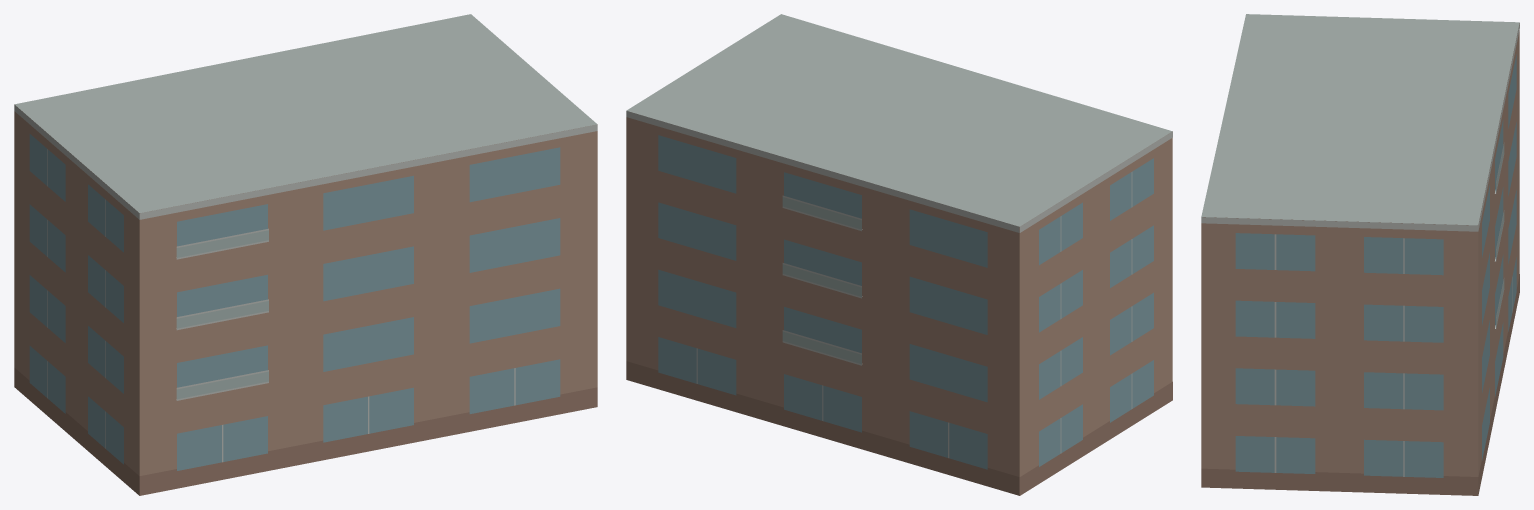
The model's file is survey-upis-32872925.glb.
3 renders of one model, left to right at view 1: azimuth 30°, elevation 25°; view 2: azimuth 150°, elevation 25°; view 3: azimuth 270°, elevation 25°, orthographic. The views are drawn at different scales.
Visible parts, largest first — view 1: survey-upis-32872925.tmp; view 2: survey-upis-32872925.tmp; view 3: survey-upis-32872925.tmp.
Boxes of the visible parts, x1=… form: survey-upis-32872925.tmp: x1=14, y1=14, x2=597, y2=495; survey-upis-32872925.tmp: x1=626, y1=14, x2=1172, y2=495; survey-upis-32872925.tmp: x1=1201, y1=14, x2=1519, y2=495.
Bounding box in the file's own units: 17.44 × 10.4 × 11.11.
